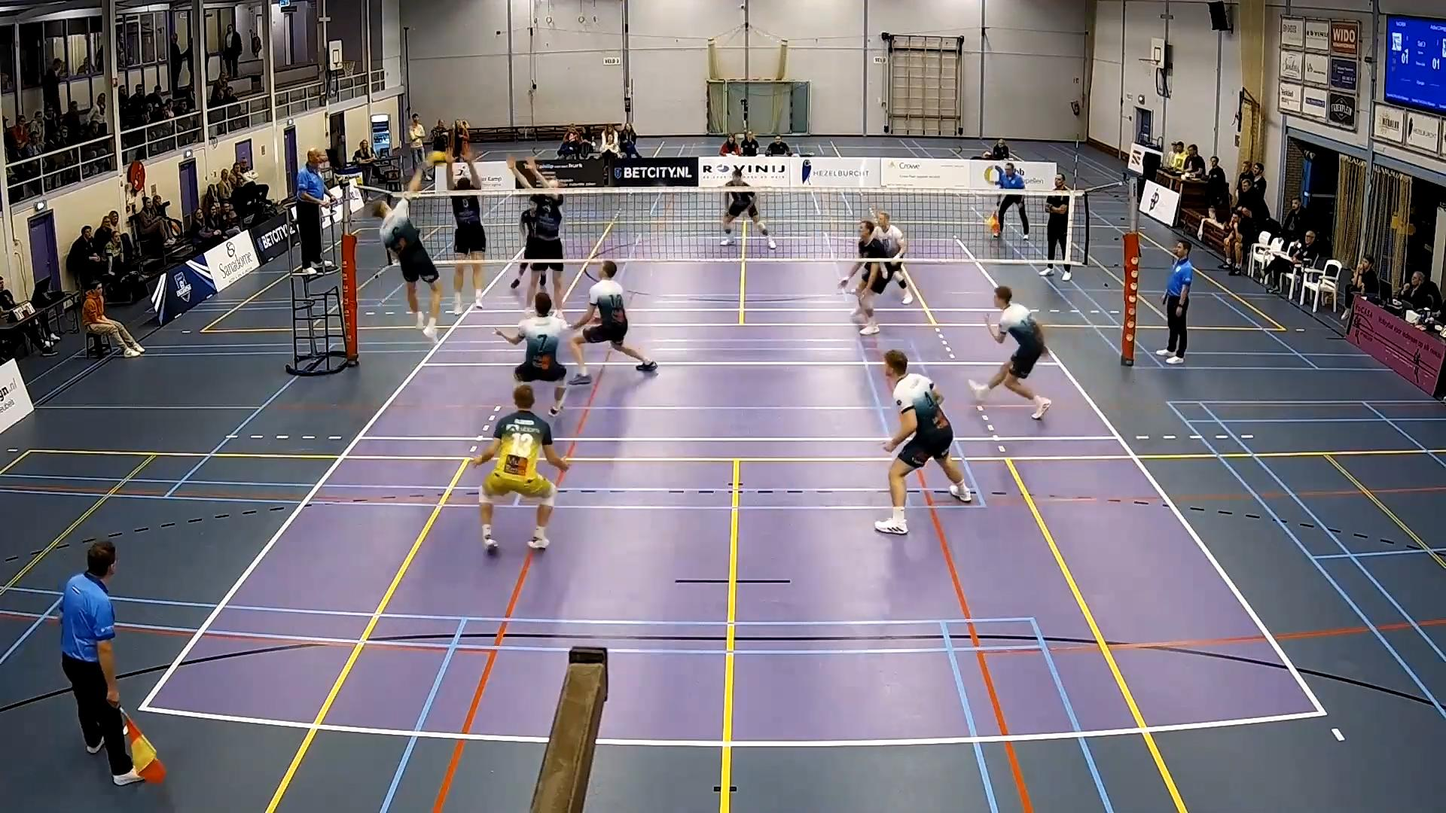Attack: (364, 168, 454, 343)
Block: (503, 146, 573, 316), (438, 144, 490, 321)
Player: (874, 349, 972, 534), (472, 383, 569, 552), (569, 260, 657, 385), (969, 286, 1051, 419), (494, 292, 567, 415), (839, 219, 887, 335), (720, 167, 775, 248), (876, 212, 913, 304), (519, 200, 535, 246)
ball: (432, 152, 446, 162)
